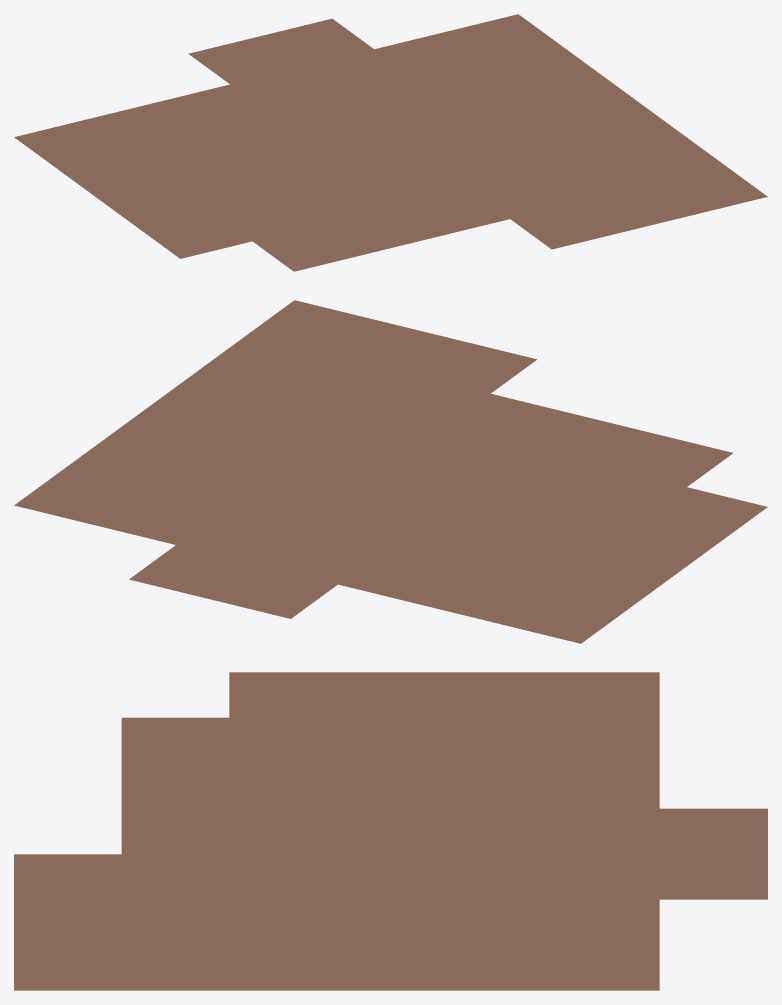
The model's file is N03_Piso_Recibidor.fbx.
3 views of the same model, one above another, from view 1: azimuth 30°, elevation 25°; view 2: azimuth 150°, elevation 25°; view 3: azimuth 270°, elevation 25° (orthographic). The views are drawn at different scales.
Visible parts, largest first — view 1: N03_Piso_Recibidor; view 2: N03_Piso_Recibidor; view 3: N03_Piso_Recibidor.
Boxes of the visible parts, left/top/right/bottom form: N03_Piso_Recibidor: left=14, top=14, right=767, bottom=271; N03_Piso_Recibidor: left=14, top=300, right=767, bottom=643; N03_Piso_Recibidor: left=14, top=672, right=767, bottom=990.
Size of the model in its own units: 700 by 0.000114 by 701.
1 material, 1 textured.
